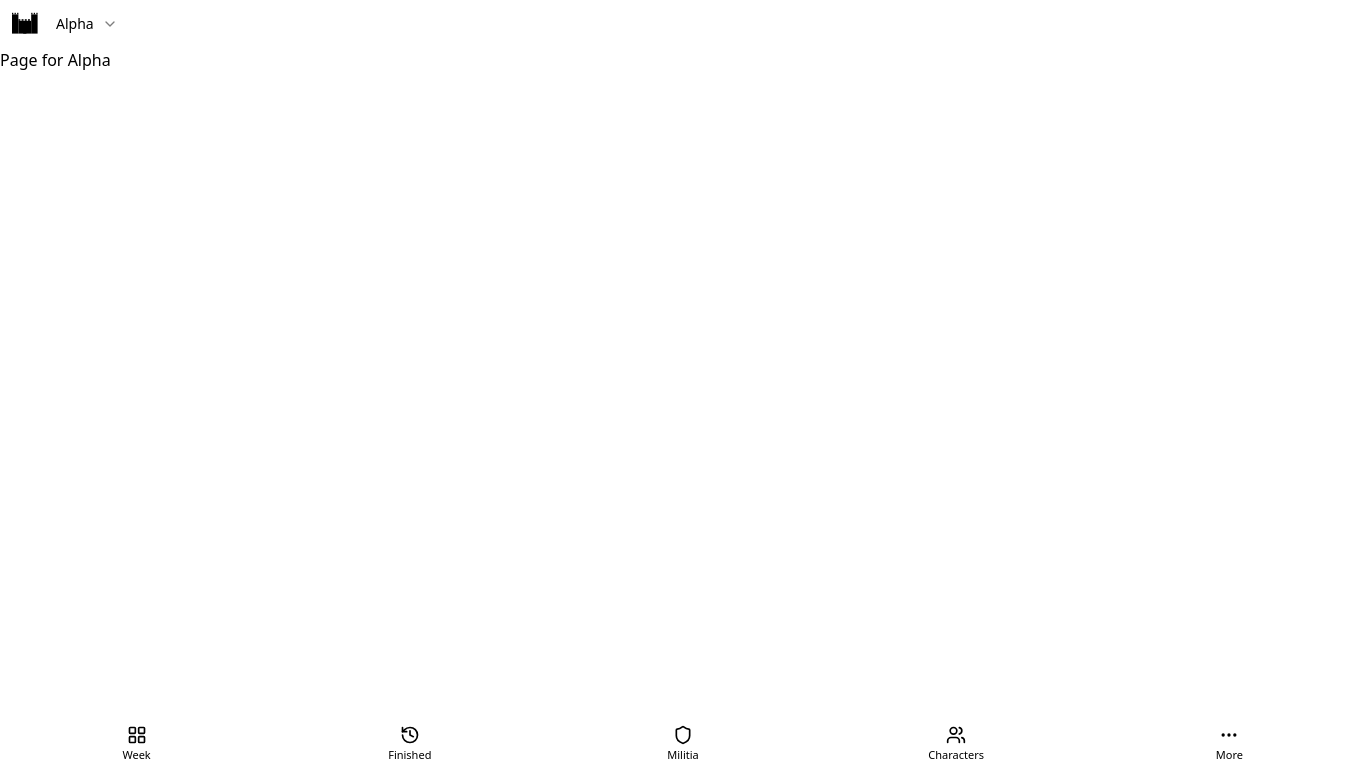
Test: a refused sign-out is reported after More has closed, and Try again repeats it once
The image size is (1366, 768).
Step 1. Click the button "More" → x=1229, y=744, box left=1093, top=720, right=1365, bottom=767
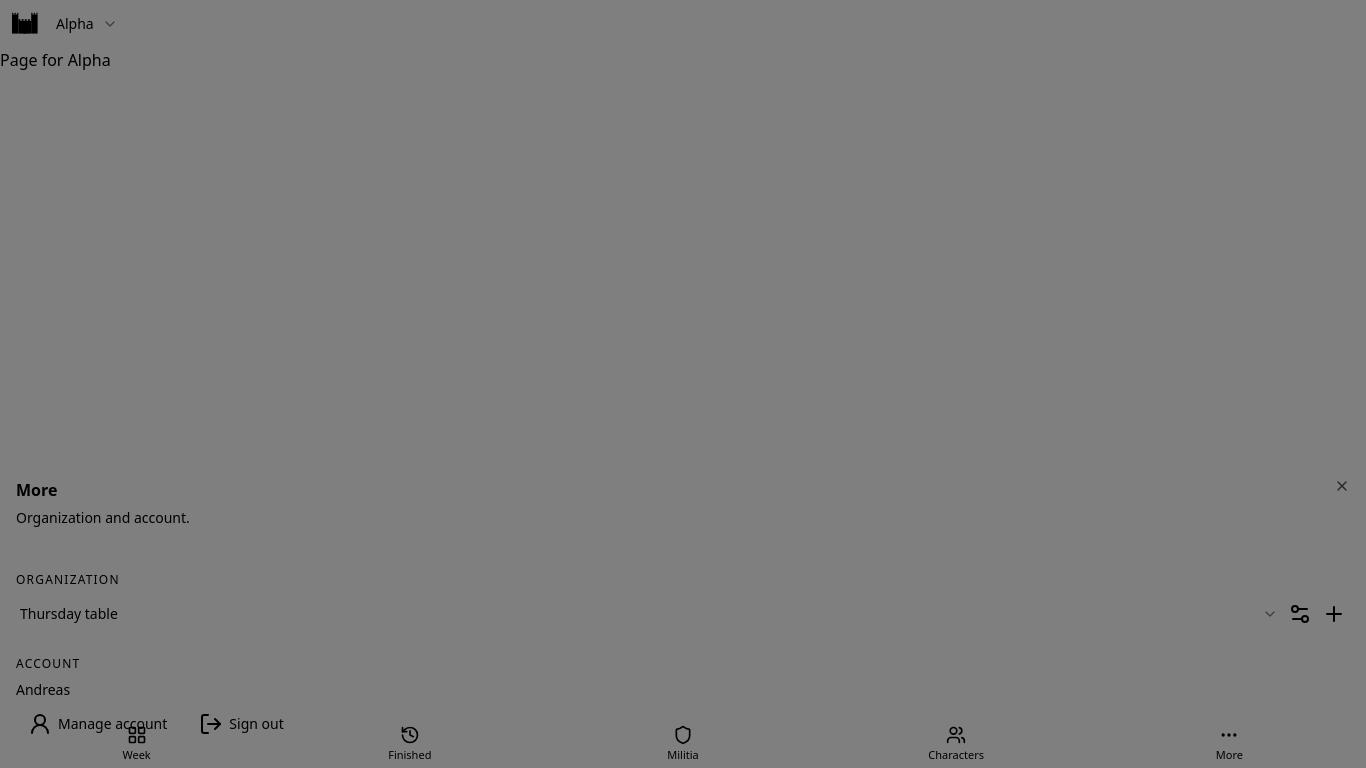
Step 2. Click the button "Sign out" → x=242, y=724, box left=187, top=708, right=296, bottom=740
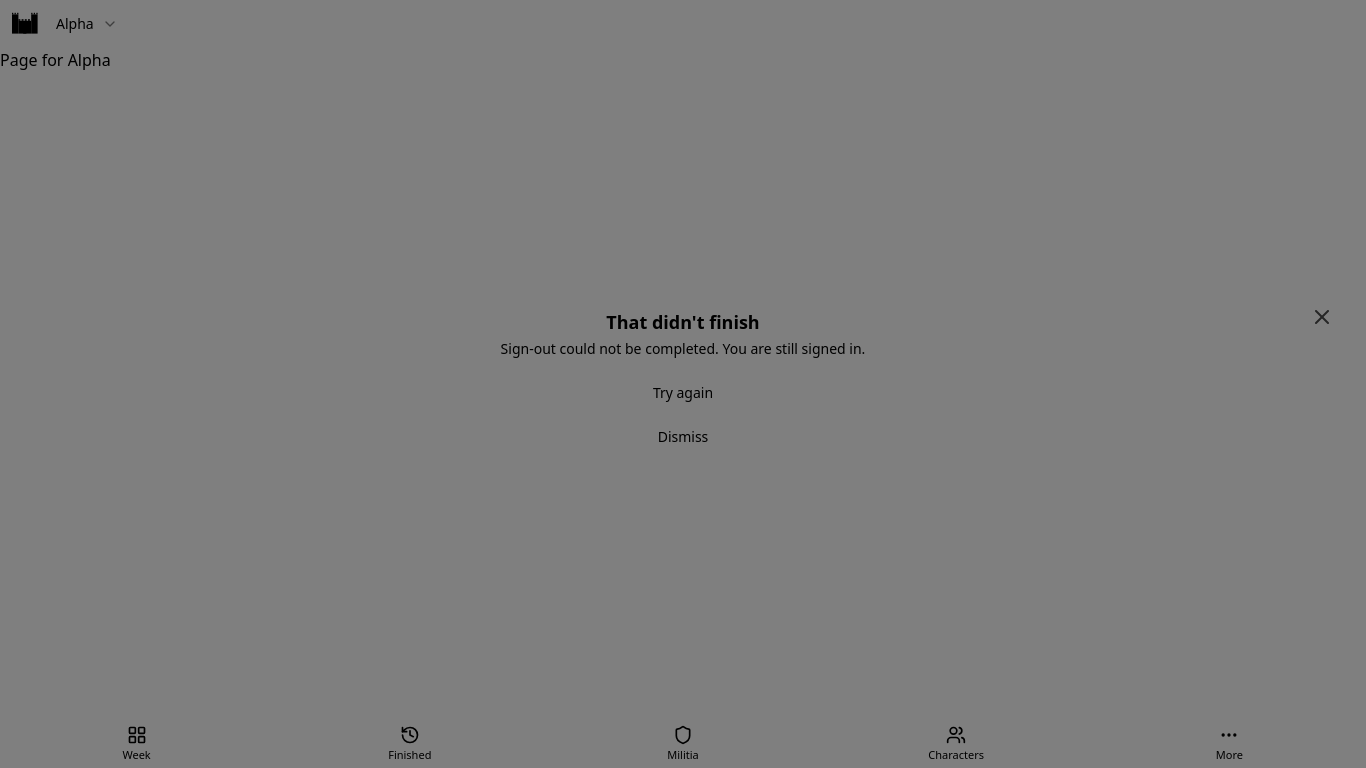
Expected: the text "Page for Alpha" is shown, left=0, top=49, right=111, bottom=71
Expected: the message reads "Sign-out could not be completed. You are still signed in.", left=501, top=339, right=865, bottom=358
Step 3. Click the button "Try again" → x=683, y=393, box left=40, top=375, right=1326, bottom=411
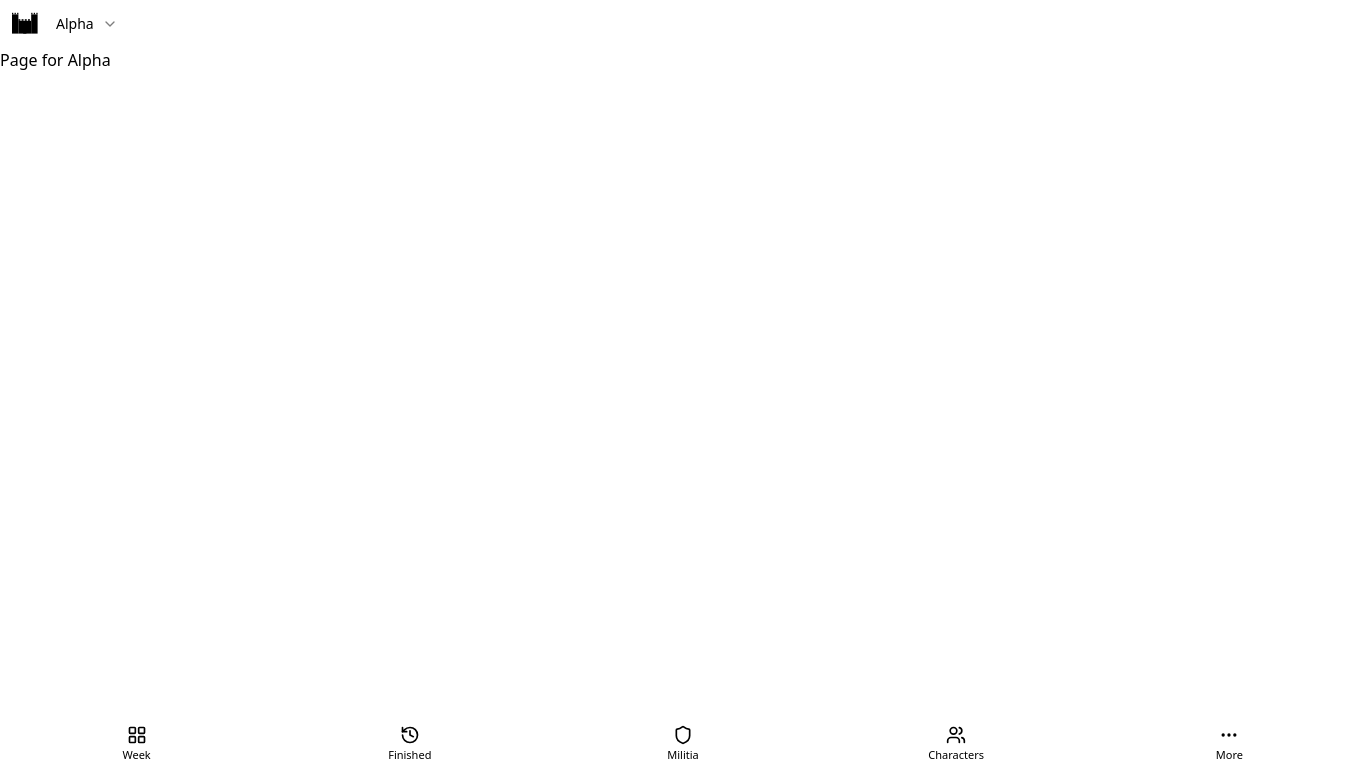
Expected: the heading "That didn't finish" is gone
